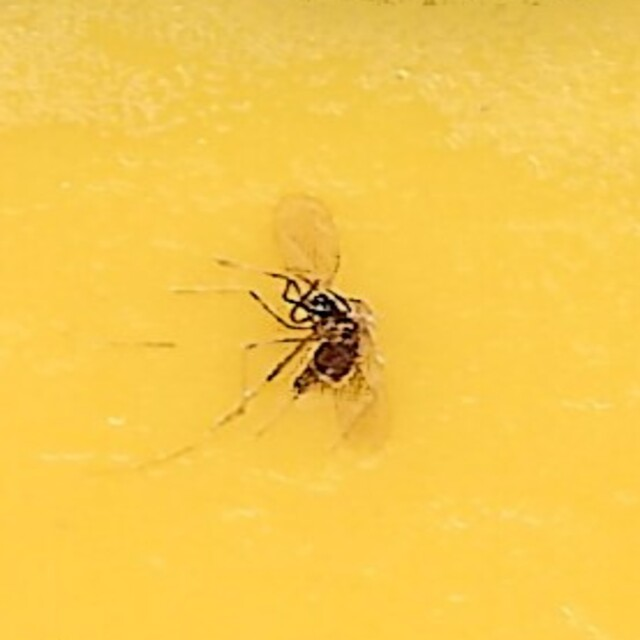Nematocera: (231, 184, 409, 456)
